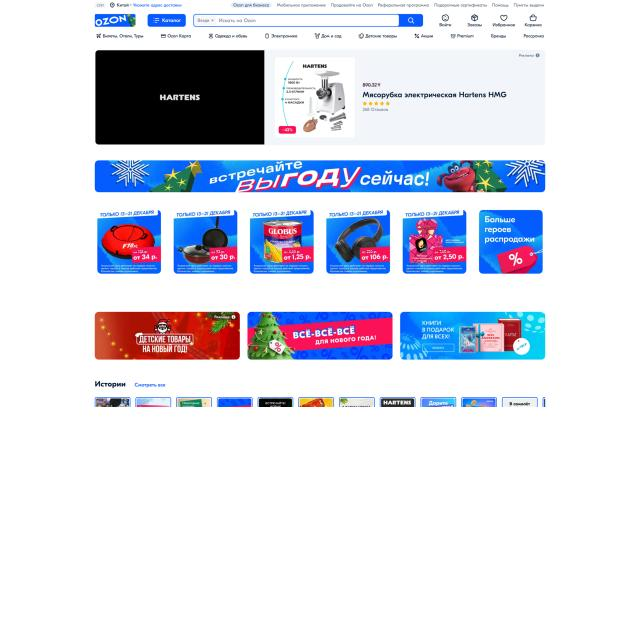logo: (94, 13, 137, 28)
navigation: (93, 32, 544, 40), (230, 2, 546, 10), (438, 14, 543, 28), (146, 13, 186, 28)
